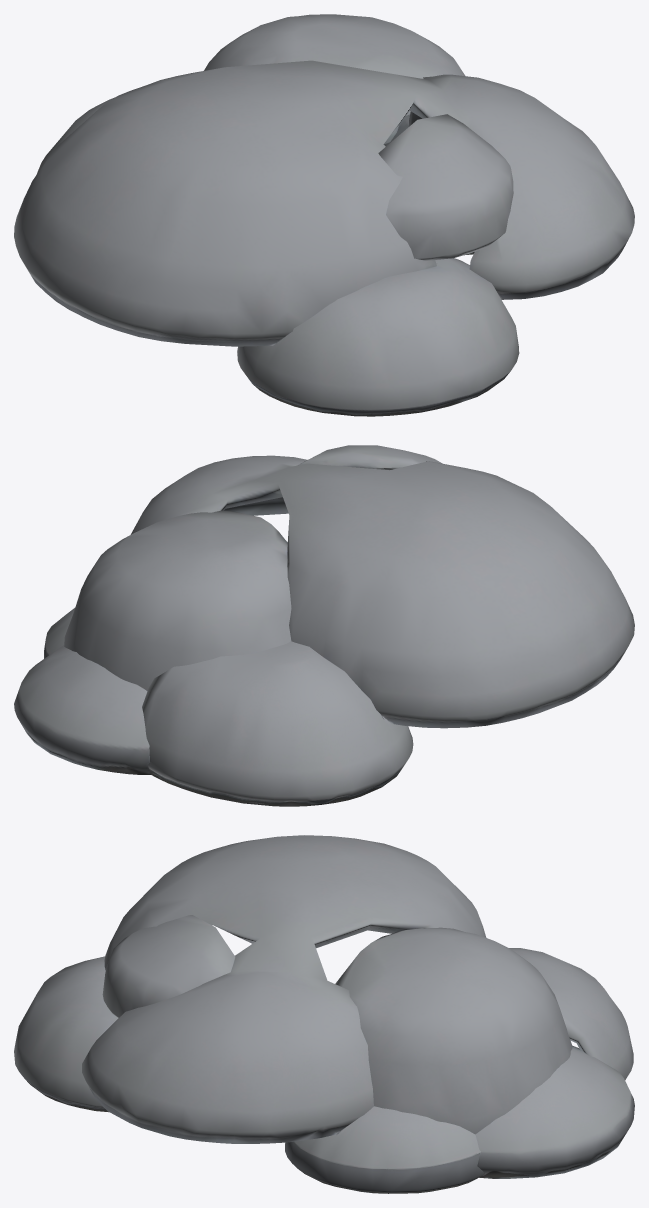
File: smoke-puff.glb
3 views of the same model, one above another, from view 1: azimuth 30°, elevation 25°; view 2: azimuth 150°, elevation 25°; view 3: azimuth 270°, elevation 25° (orthographic). The views are drawn at different scales.
Parts seen in each view (by area): view 1: tripo_node_03c6a258-5017-4fde-9e84-809521b396b3; view 2: tripo_node_03c6a258-5017-4fde-9e84-809521b396b3; view 3: tripo_node_03c6a258-5017-4fde-9e84-809521b396b3.
Part boxes in pixels (x1,y1,x2,y2): tripo_node_03c6a258-5017-4fde-9e84-809521b396b3: (14, 14, 634, 416); tripo_node_03c6a258-5017-4fde-9e84-809521b396b3: (14, 445, 634, 806); tripo_node_03c6a258-5017-4fde-9e84-809521b396b3: (14, 835, 634, 1193).
Bounding box in the file's own units: 0.5005 × 0.1819 × 0.55.
Materials: 1 (1 with a texture image).
